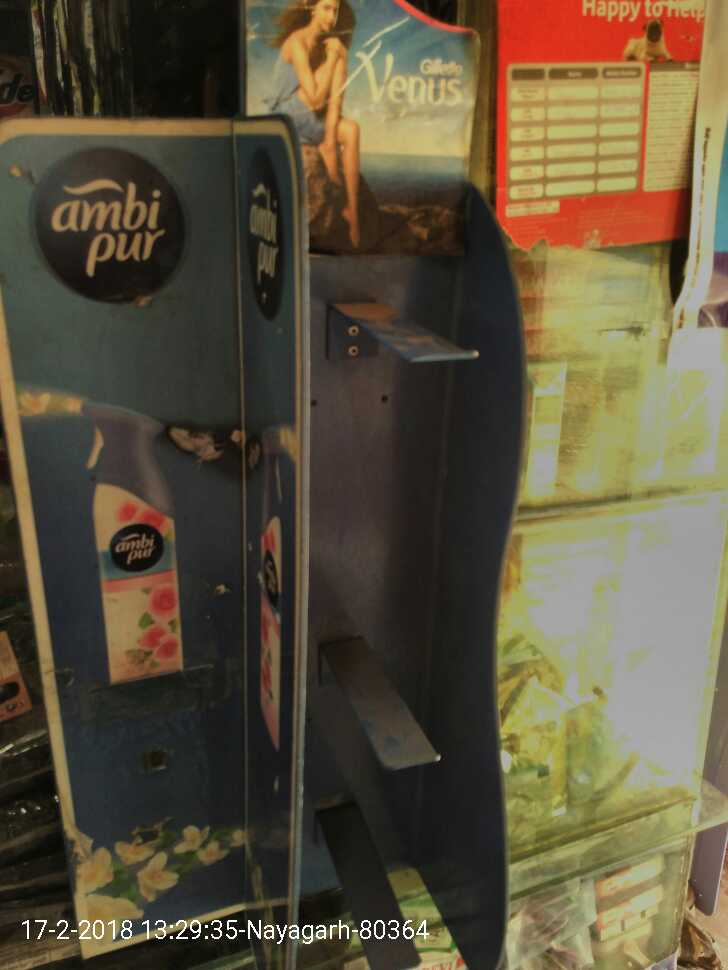reject: (223, 331, 546, 616)
